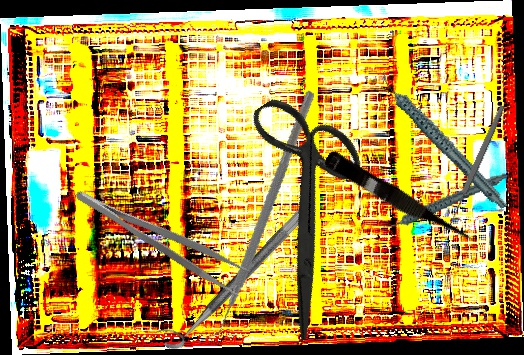Chopper: (153, 89, 357, 345)
Dressing Forceps: (71, 171, 254, 301)
Fixation Ring: (153, 188, 317, 355)
Handpiece: (378, 51, 508, 229), (373, 171, 514, 231)
Iris Scissors: (181, 75, 428, 343)
Micro Scissor: (320, 148, 480, 254)
Surgical Spoon: (443, 104, 507, 232)
